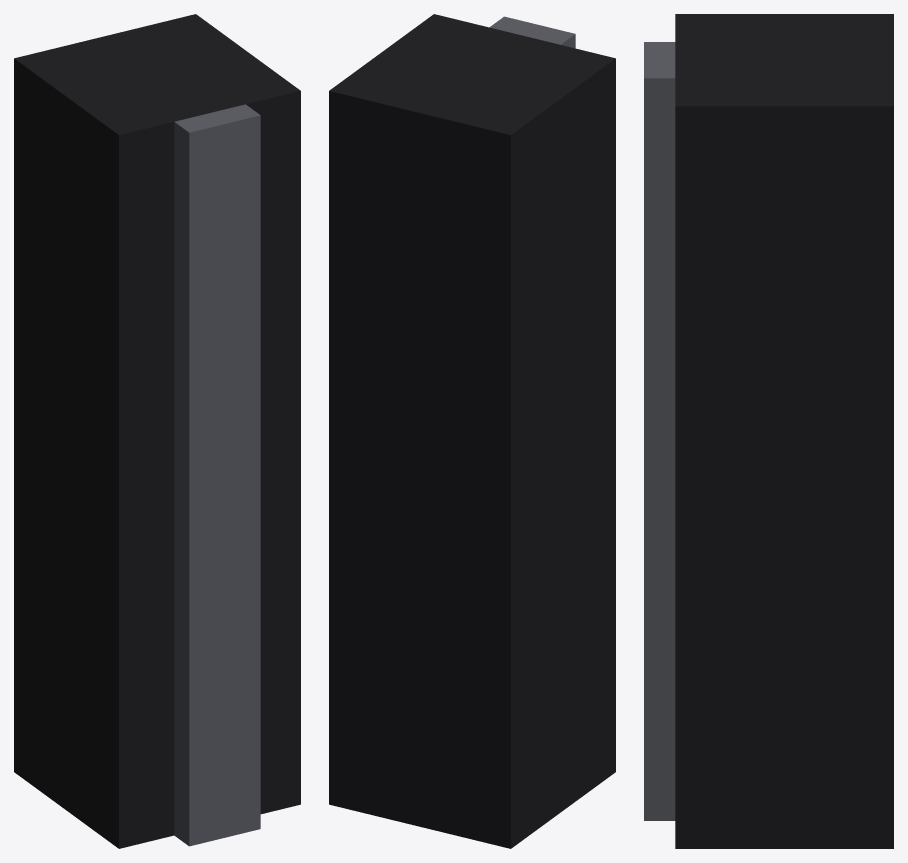
The model's file is Handguard_AK_Quad.fbx.
The picture shows the model from 3 angles, left to right: view 1: azimuth 30°, elevation 25°; view 2: azimuth 150°, elevation 25°; view 3: azimuth 270°, elevation 25°; orthographic projection. The views are drawn at different scales.
Visible parts, largest first — view 1: prims; view 2: prims; view 3: prims.
Part boxes in pixels (x1=…): prims: x1=14, y1=14, x2=300, y2=848; prims: x1=329, y1=14, x2=615, y2=848; prims: x1=644, y1=14, x2=893, y2=848.
Bounding box in the file's own units: 0.0336 × 0.126 × 0.0384.
